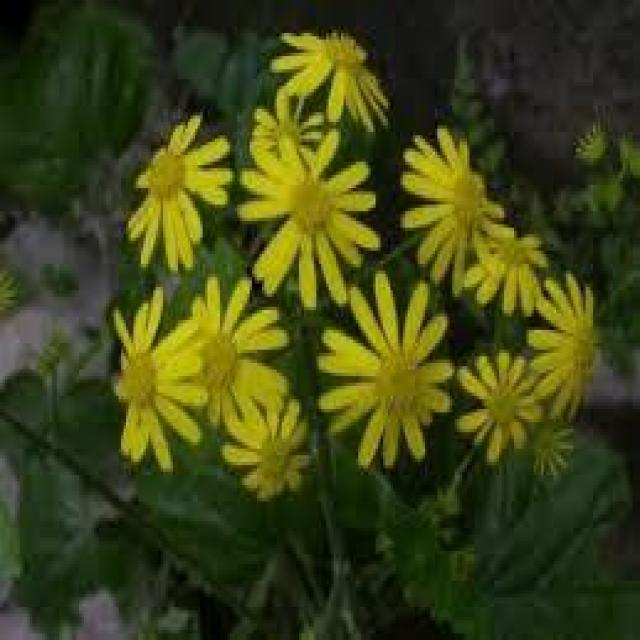organic waste: (232, 111, 390, 305), (156, 266, 294, 454), (332, 276, 451, 470), (99, 271, 200, 488), (369, 115, 498, 284), (123, 114, 244, 272), (279, 15, 415, 134), (508, 271, 602, 409), (446, 203, 547, 322), (231, 394, 327, 503), (465, 346, 536, 472), (510, 401, 574, 486)
